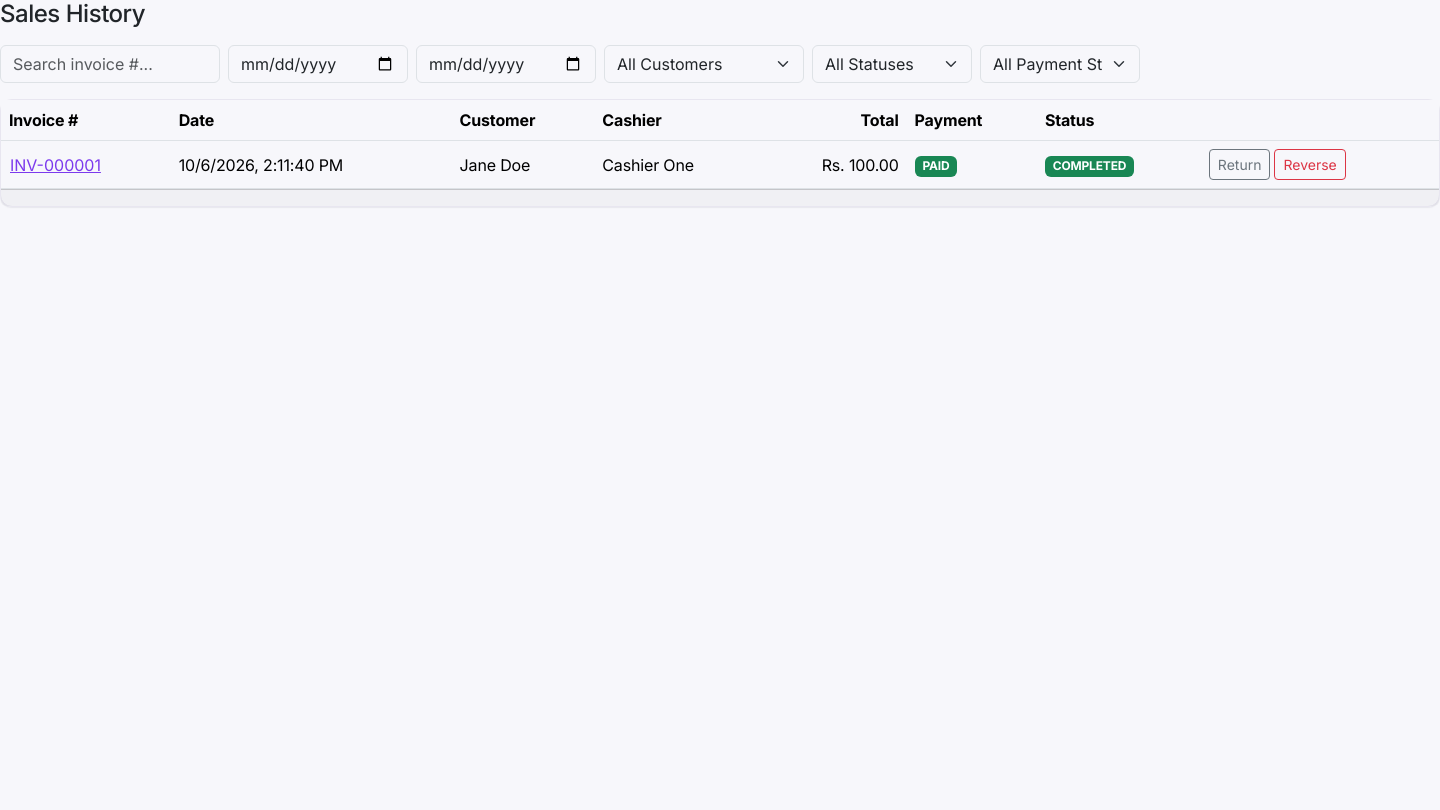
Scenario: SalesHistory page (Phase 1.8) › shows notes in the sale detail view when present
Click the button "INV-000001": [55, 165] box x1=9 y1=152 x2=102 y2=178
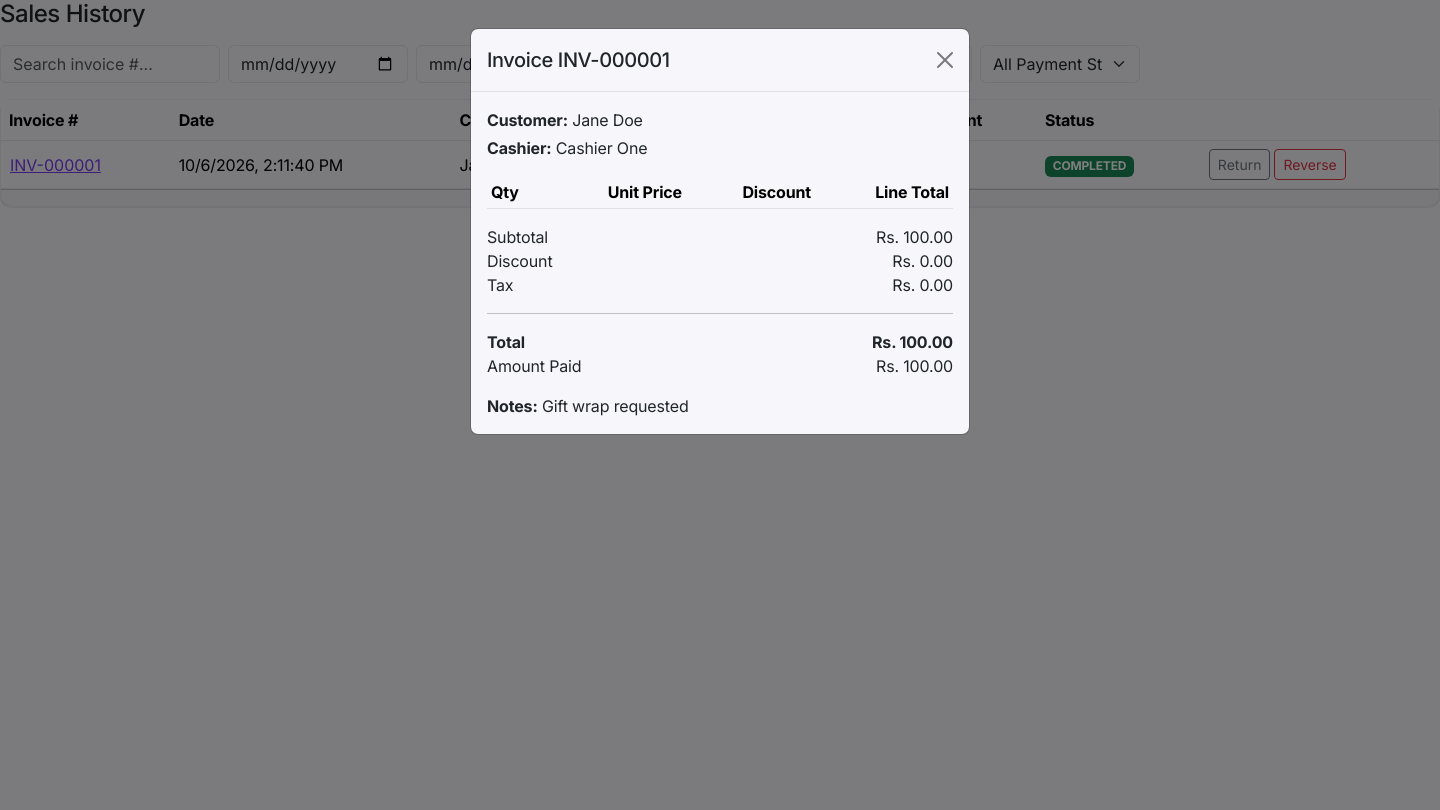
Now the text "Gift wrap requested" is shown, box x1=542 y1=396 x2=688 y2=416
